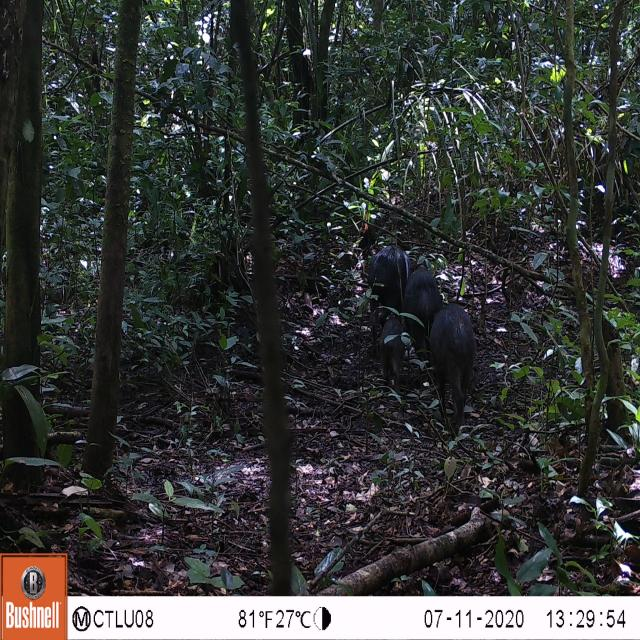Collared Peccary: (349, 225, 488, 431)
